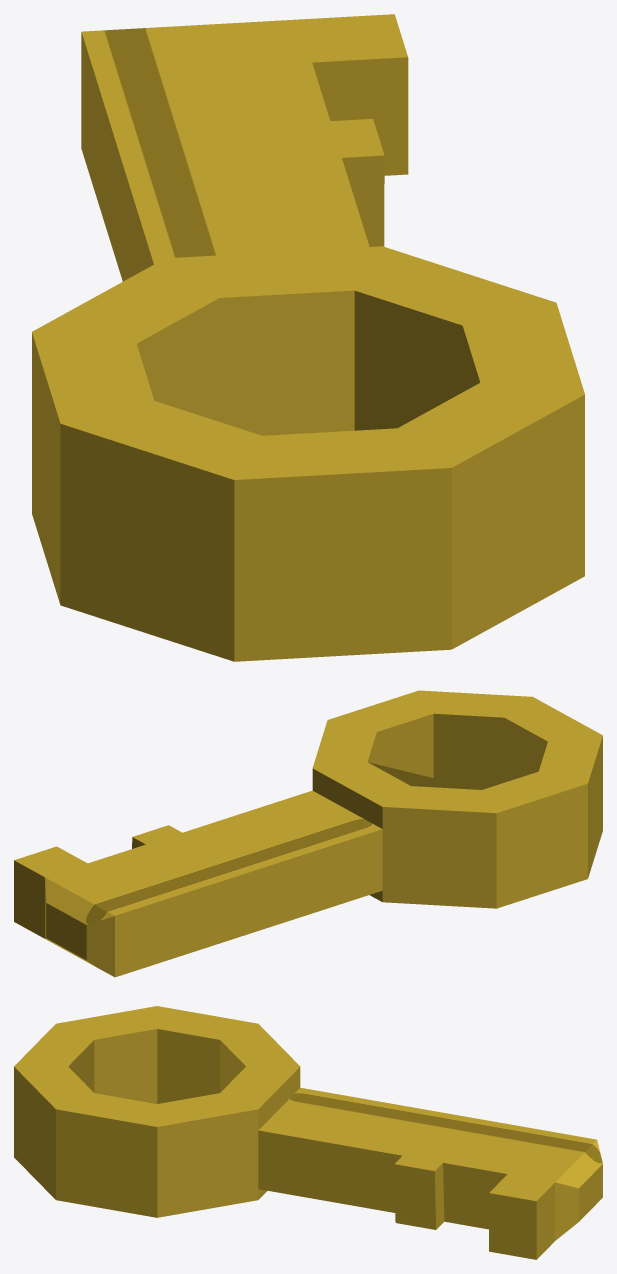
Rendered from Key.fbx.
3 views of the same model, one above another, from view 1: azimuth 30°, elevation 25°; view 2: azimuth 150°, elevation 25°; view 3: azimuth 270°, elevation 25° (orthographic). The views are drawn at different scales.
Parts seen in each view (by area): view 1: Cylinder; view 2: Cylinder; view 3: Cylinder.
Part boxes in pixels (x1,y1,x2,y2): Cylinder: (32, 14, 584, 661); Cylinder: (14, 690, 602, 977); Cylinder: (14, 1006, 602, 1259).
Size of the model in its own units: 144 by 35.01 by 206.
